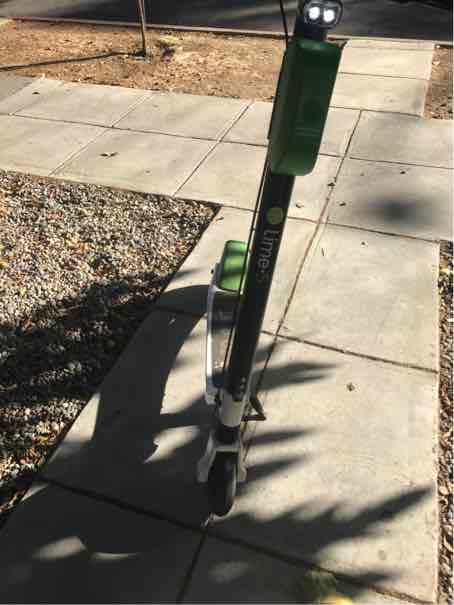scooter: (201, 0, 359, 531)
